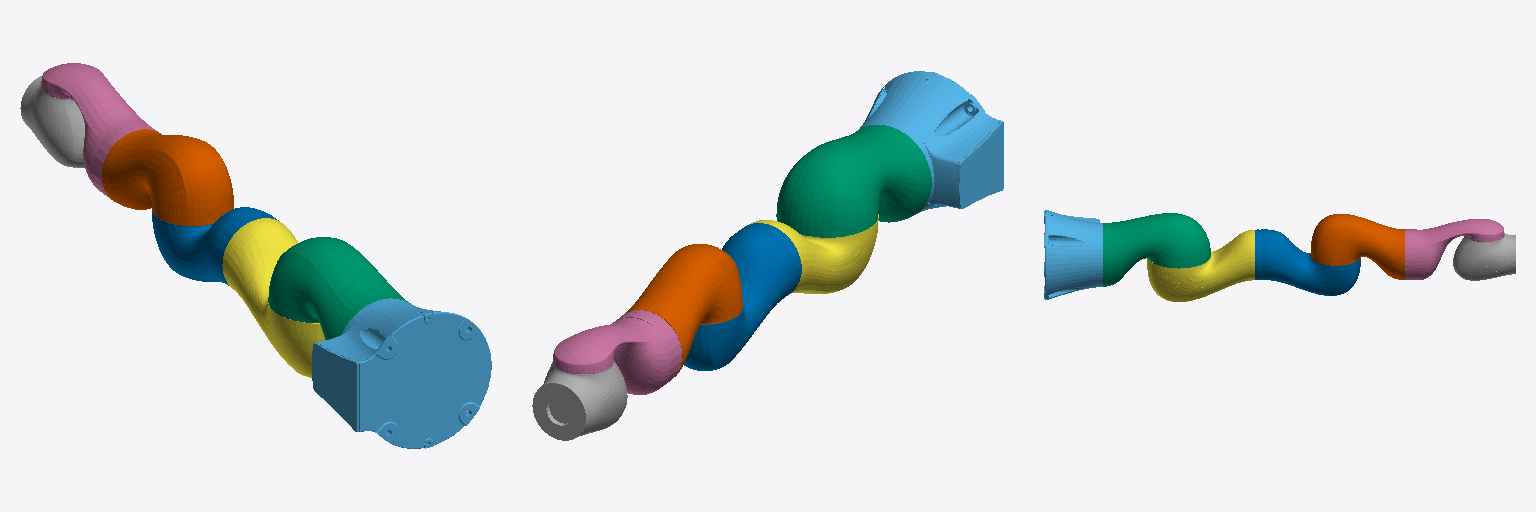
robot.urdf — kuka_lbr_iiwa_14_r820:
<?xml version="1.0" ?>
<!-- =================================================================================== -->
<!-- |    This document was autogenerated by xacro from lbr_iiwa_14_r820.xacro         | -->
<!-- |    EDITING THIS FILE BY HAND IS NOT RECOMMENDED                                 | -->
<!-- =================================================================================== -->
<robot name="kuka_lbr_iiwa_14_r820" xmlns:xacro="http://wiki.ros.org/xacro">
  <!-- link list -->
  <link name="world"/>
  <joint name="arm_to_world_fixed" type="fixed">
    <parent link="world"/>
    <child link="base_link"/>
    <origin xyz="0 -0.5 0" rpy="-1.57 0 0" />
  </joint>
  <link name="base_link">
    <visual>
      <origin rpy="1.57 0 0" xyz="0 0 0"/>
      <geometry>
        <mesh filename="meshes/lbr_iiwa_14_r820/visual/base_link.stl"/>
      </geometry>
    </visual>
<!--    <collision>-->
<!--      <origin rpy="0 0 0" xyz="0 0 0"/>-->
<!--      <geometry>-->
<!--        <mesh filename="meshes/lbr_iiwa_14_r820/collision/base_link.stl"/>-->
<!--      </geometry>-->
<!--    </collision>-->
  </link>
  <link name="link_1">
    <visual>
      <origin rpy="1.57 0 0" xyz="0 0 0"/>
      <geometry>
        <mesh filename="meshes/lbr_iiwa_14_r820/visual/link_1.stl"/>
      </geometry>
    </visual>
<!--    <collision>-->
<!--      <origin rpy="0 0 0" xyz="0 0 0"/>-->
<!--      <geometry>-->
<!--        <mesh filename="meshes/lbr_iiwa_14_r820/collision/link_1.stl"/>-->
<!--      </geometry>-->
<!--    </collision>-->
  </link>
  <link name="link_2">
    <visual>
      <origin rpy="1.57 0 0" xyz="0 0 0"/>
      <geometry>
        <mesh filename="meshes/lbr_iiwa_14_r820/visual/link_2.stl"/>
      </geometry>
    </visual>
<!--    <collision>-->
<!--      <origin rpy="0 0 0" xyz="0 0 0"/>-->
<!--      <geometry>-->
<!--        <mesh filename="meshes/lbr_iiwa_14_r820/collision/link_2.stl"/>-->
<!--      </geometry>-->
<!--    </collision>-->
  </link>
  <link name="link_3">
    <visual>
      <origin rpy="1.57 0 0" xyz="0 0 0"/>
      <geometry>
        <mesh filename="meshes/lbr_iiwa_14_r820/visual/link_3.stl"/>
      </geometry>
    </visual>
<!--    <collision>-->
<!--      <origin rpy="0 0 0" xyz="0 0 0"/>-->
<!--      <geometry>-->
<!--        <mesh filename="meshes/lbr_iiwa_14_r820/collision/link_3.stl"/>-->
<!--      </geometry>-->
<!--    </collision>-->
  </link>
  <link name="link_4">
    <visual>
      <origin rpy="1.57 0 0" xyz="0 0 0"/>
      <geometry>
        <mesh filename="meshes/lbr_iiwa_14_r820/visual/link_4.stl"/>
      </geometry>
    </visual>
<!--    <collision>-->
<!--      <origin rpy="0 0 0" xyz="0 0 0"/>-->
<!--      <geometry>-->
<!--        <mesh filename="meshes/lbr_iiwa_14_r820/collision/link_4.stl"/>-->
<!--      </geometry>-->
<!--    </collision>-->
  </link>
  <link name="link_5">
    <visual>
      <origin rpy="1.57 0 0" xyz="0 0 0"/>
      <geometry>
        <mesh filename="meshes/lbr_iiwa_14_r820/visual/link_5.stl"/>
      </geometry>
    </visual>
<!--    <collision>-->
<!--      <origin rpy="0 0 0" xyz="0 0 0"/>-->
<!--      <geometry>-->
<!--        <mesh filename="meshes/lbr_iiwa_14_r820/collision/link_5.stl"/>-->
<!--      </geometry>-->
<!--    </collision>-->
  </link>
  <link name="link_6">
    <visual>
      <origin rpy="1.57 0 0" xyz="0 0 0"/>
      <geometry>
        <mesh filename="meshes/lbr_iiwa_14_r820/visual/link_6.stl"/>
      </geometry>
    </visual>
<!--    <collision>-->
<!--      <origin rpy="0 0 0" xyz="0 0 0"/>-->
<!--      <geometry>-->
<!--        <mesh filename="meshes/lbr_iiwa_14_r820/collision/link_6.stl"/>-->
<!--      </geometry>-->
<!--    </collision>-->
  </link>
  <link name="link_7">
    <visual>
      <origin rpy="1.57 0 0" xyz="-0.054 0.054 0"/>
      <geometry>
        <mesh filename="meshes/lbr_iiwa_14_r820/collision/link_7_ball3.stl"/>
      </geometry>
    </visual>
    <collision>
      <origin rpy="1.57 0 0" xyz="-0.054 0.054 0"/>
      <geometry>
        <mesh filename="meshes/lbr_iiwa_14_r820/collision/link_7_ball3.stl"/>
      </geometry>
    </collision>
  </link>
  <link name="tool0"/>
  <!-- end of link list -->
  <!-- joint list -->
  <joint name="joint_a1" type="revolute">
    <origin rpy="0 0 0" xyz="0 0 0"/>
    <parent link="base_link"/>
    <child link="link_1"/>
    <axis xyz="0 0 1"/>
    <limit effort="0" lower="-2.9668" upper="2.9668" velocity="1.4834"/>
  </joint>
  <joint name="joint_a2" type="revolute">
    <origin rpy="0 0 0" xyz="-0.00043624 0 0.36"/>
    <parent link="link_1"/>
    <child link="link_2"/>
    <axis xyz="0 1 0"/>
    <limit effort="0" lower="-2.0942" upper="2.0942" velocity="1.4834"/>
  </joint>
  <joint name="joint_a3" type="revolute">
    <origin rpy="0 0 0" xyz="0 0 0"/>
    <parent link="link_2"/>
    <child link="link_3"/>
    <axis xyz="0 0 1"/>
    <limit effort="0" lower="-2.9668" upper="2.9668" velocity="1.7452"/>
  </joint>
  <joint name="joint_a4" type="revolute">
    <origin rpy="0 0 0" xyz="0.00043624 0 0.42"/>
    <parent link="link_3"/>
    <child link="link_4"/>
    <axis xyz="0 -1 0"/>
    <limit effort="0" lower="-2.0942" upper="2.0942" velocity="1.3089"/>
  </joint>fixed
  <joint name="joint_a5" type="revolute">
    <origin rpy="0 0 0" xyz="0 0 0"/>
    <parent link="link_4"/>
    <child link="link_5"/>
    <axis xyz="0 0 1"/>
    <limit effort="0" lower="-2.9668" upper="2.9668" velocity="2.2688"/>
  </joint>
  <joint name="joint_a6" type="revolute">
    <origin rpy="0 0 0" xyz="0 0 0.4"/>
    <parent link="link_5"/>
    <child link="link_6"/>
    <axis xyz="0 1 0"/>
    <limit effort="0" lower="-2.0942" upper="2.0942" velocity="2.356"/>
  </joint>
  <joint name="joint_a7" type="revolute">
    <origin rpy="0 0 0" xyz="0 0 0"/>
    <parent link="link_6"/>
    <child link="link_7"/>
    <axis xyz="0 0 1"/>
    <limit effort="0" lower="-3.0541" upper="3.0541" velocity="2.356"/>
  </joint>
  <joint name="joint_a7-tool0" type="fixed">
    <origin rpy="0 0 0" xyz="0 0 0.126"/>
    <parent link="link_7"/>
    <child link="tool0"/>
    <axis xyz="0 0 0"/>
  </joint>
  <!-- end of joint list -->
  <!-- ROS base_link to KUKA $ROBROOT coordinate system transform -->
  <link name="base"/>
  <joint name="base_link-base" type="fixed">
    <origin rpy="0 0 0" xyz="0 0 0"/>
    <parent link="base_link"/>
    <child link="base"/>
  </joint>
</robot>

--- What the picture shows (computed from the rendered views, not written in the file) ---
3 views of the same robot in one strip: view 1: azimuth 30°, elevation 25°; view 2: azimuth 150°, elevation 25°; view 3: azimuth 270°, elevation 25° (orthographic).
Robot: kuka_lbr_iiwa_14_r820 — 11 links, 10 joints (7 revolute, 3 fixed); root link world; default pose: all joints at 0.
Visible links, largest first — view 1: base_link, link_4, link_1, link_2, link_5, link_3, link_6; view 2: link_1, base_link, link_3, link_4, link_5, link_6, link_2; view 3: link_1, base_link, link_4, link_2, link_3, link_5, link_6.
Boxes of the visible links, left/top/right/bottom form: base_link: left=312, top=298, right=491, bottom=448; link_4: left=102, top=129, right=233, bottom=225; link_1: left=268, top=237, right=410, bottom=360; link_2: left=222, top=218, right=324, bottom=377; link_5: left=41, top=63, right=157, bottom=196; link_3: left=152, top=207, right=278, bottom=285; link_6: left=20, top=75, right=84, bottom=167; link_1: left=776, top=125, right=931, bottom=237; base_link: left=860, top=71, right=1003, bottom=213; link_3: left=684, top=223, right=801, bottom=370; link_4: left=622, top=244, right=742, bottom=376; link_5: left=553, top=310, right=681, bottom=394; link_6: left=532, top=361, right=627, bottom=440; link_2: left=744, top=214, right=878, bottom=293; link_1: left=1103, top=213, right=1210, bottom=286; base_link: left=1044, top=210, right=1102, bottom=299; link_4: left=1310, top=214, right=1404, bottom=279; link_2: left=1147, top=230, right=1254, bottom=301; link_3: left=1255, top=229, right=1360, bottom=295; link_5: left=1405, top=219, right=1504, bottom=279; link_6: left=1453, top=234, right=1515, bottom=280.
Bounding box of the posed robot: 0.2575 × 1.26 × 0.2531 m (x, y, z).
Meshes: 8 distinct files referenced, 7 mesh visuals loaded (7 binary STL); not drawn: 1 (reference not matched to a file when rendering).